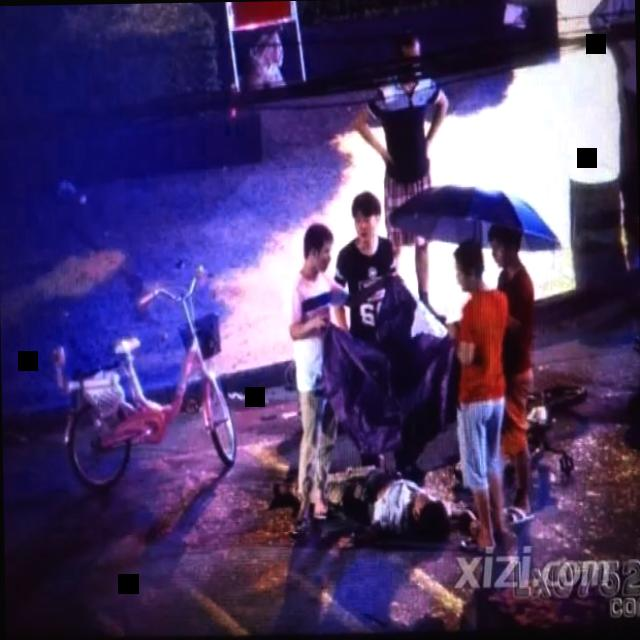Fall-Detected: (338, 454, 466, 553)
